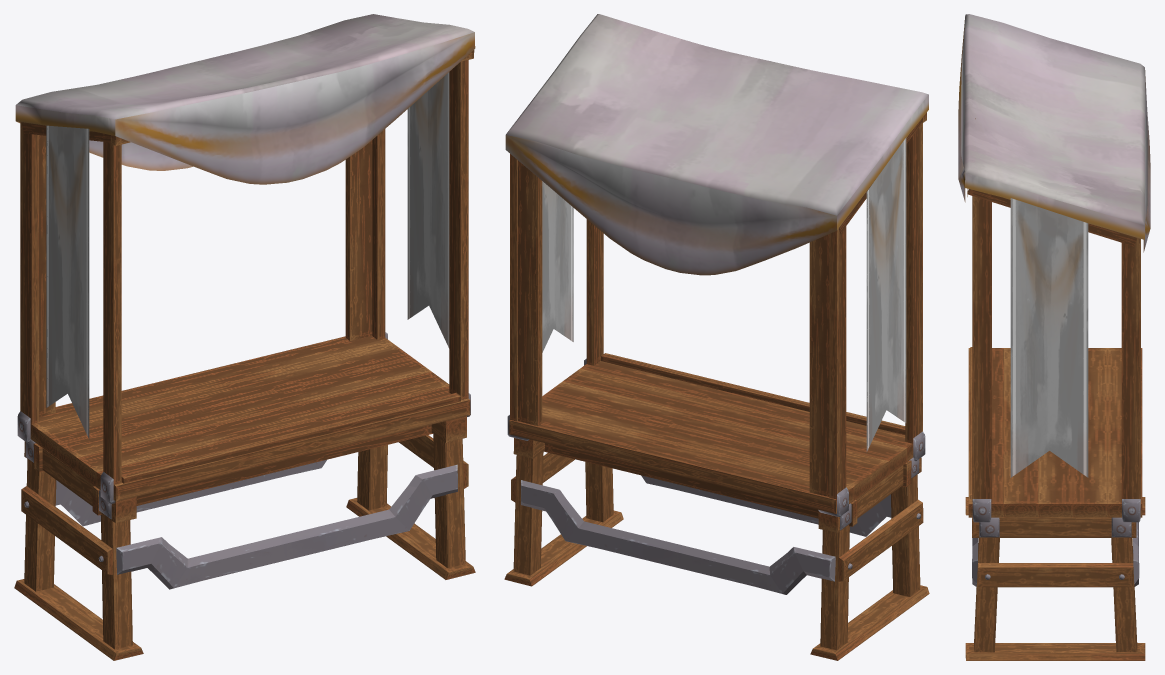
File: Stall_Empty.fbx
3 views of the same model, side by side, from view 1: azimuth 30°, elevation 25°; view 2: azimuth 150°, elevation 25°; view 3: azimuth 270°, elevation 25° (orthographic). The views are drawn at different scales.
Visible parts, largest first — view 1: Stall_Empty; view 2: Stall_Empty; view 3: Stall_Empty.
Boxes of the visible parts, bbox=[...] form: Stall_Empty: bbox=[14, 14, 475, 660]; Stall_Empty: bbox=[504, 14, 929, 660]; Stall_Empty: bbox=[958, 14, 1150, 660].
Size of the model in its own units: 184 by 263 by 93.23.
